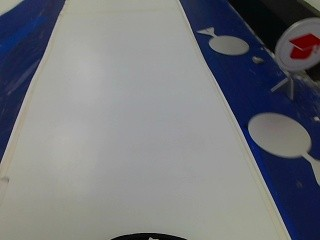school: (279, 19, 318, 74)
